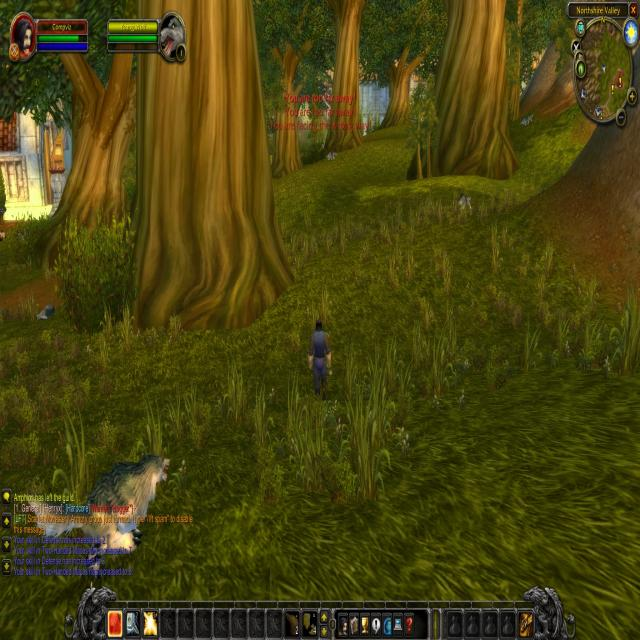wolf: (17, 436, 188, 594), (32, 294, 58, 332), (450, 188, 477, 218), (516, 110, 538, 134), (322, 146, 341, 168)
